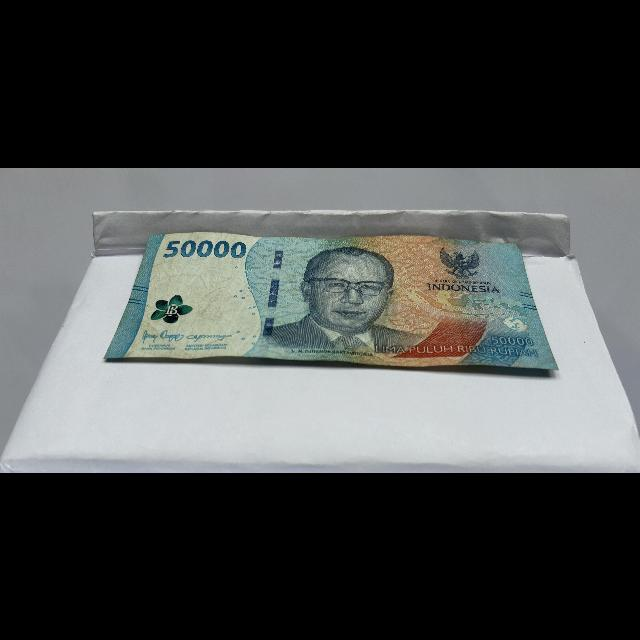Asli-50k: (100, 228, 565, 372)
Tinta-Asli-50k: (148, 292, 198, 325)
